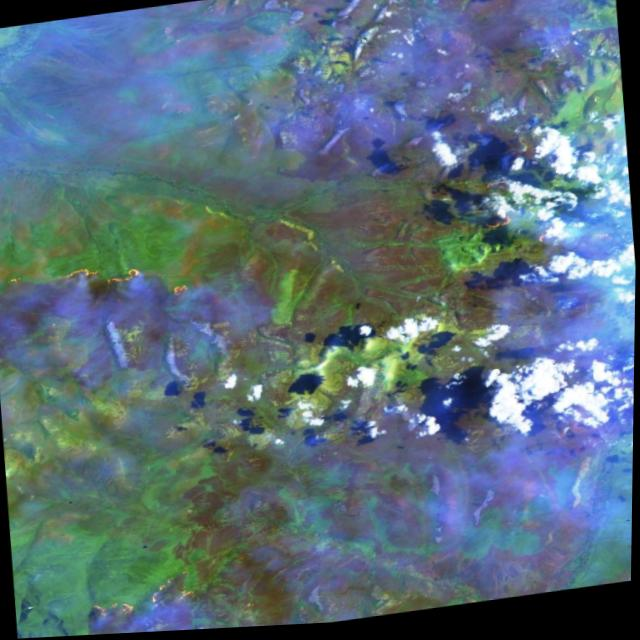fire: (0, 231, 213, 344), (75, 561, 239, 637)
